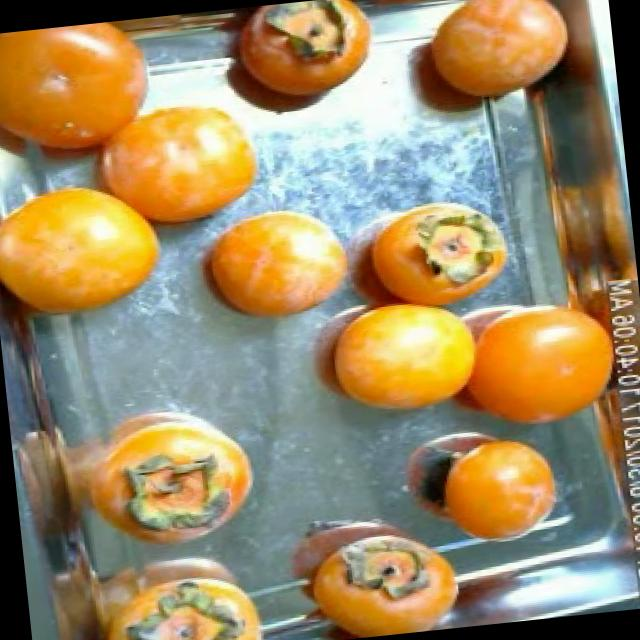Fruit: (0, 160, 188, 339), (174, 185, 372, 342), (100, 84, 282, 241), (375, 0, 594, 128), (197, 0, 390, 134), (105, 405, 272, 548), (410, 425, 577, 553)
